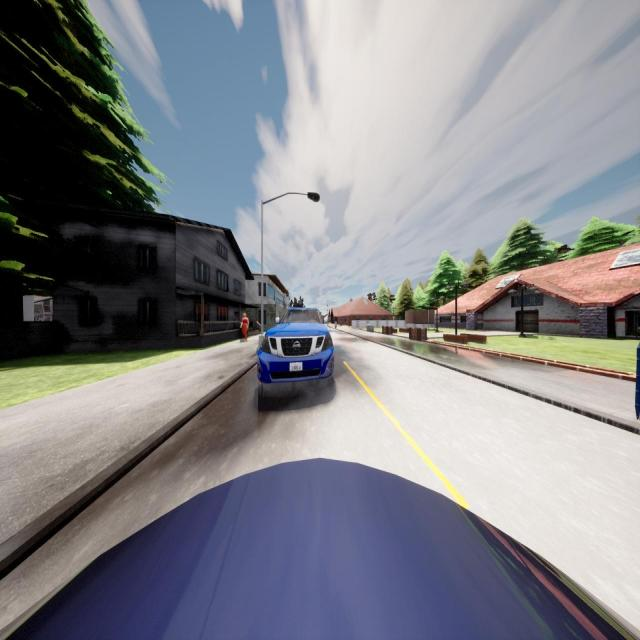Pedestrian: (239, 312, 249, 341)
Vehicle: (0, 459, 640, 640), (257, 306, 333, 384)
